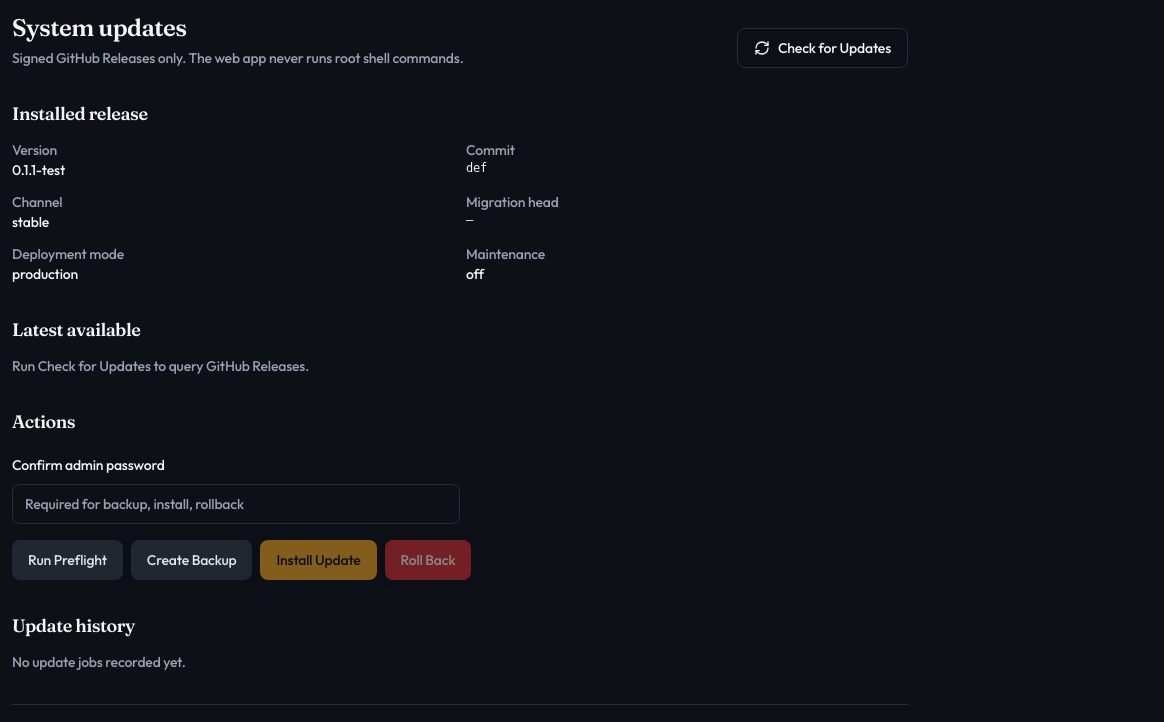
it: SystemUpdatesPage › shows no update state
Click the button "Check for Updates".
click(822, 48)  # box [737,28,908,68]
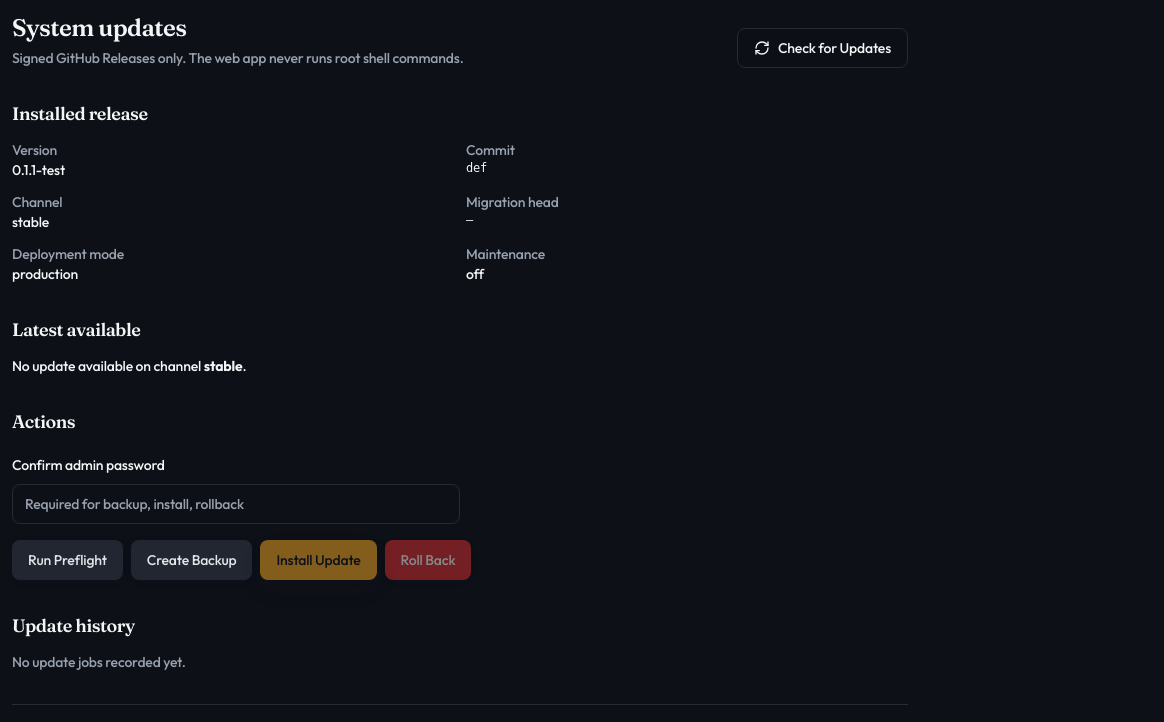
Now the text "No update available on channel stable." is shown, box [12,357,246,375]
